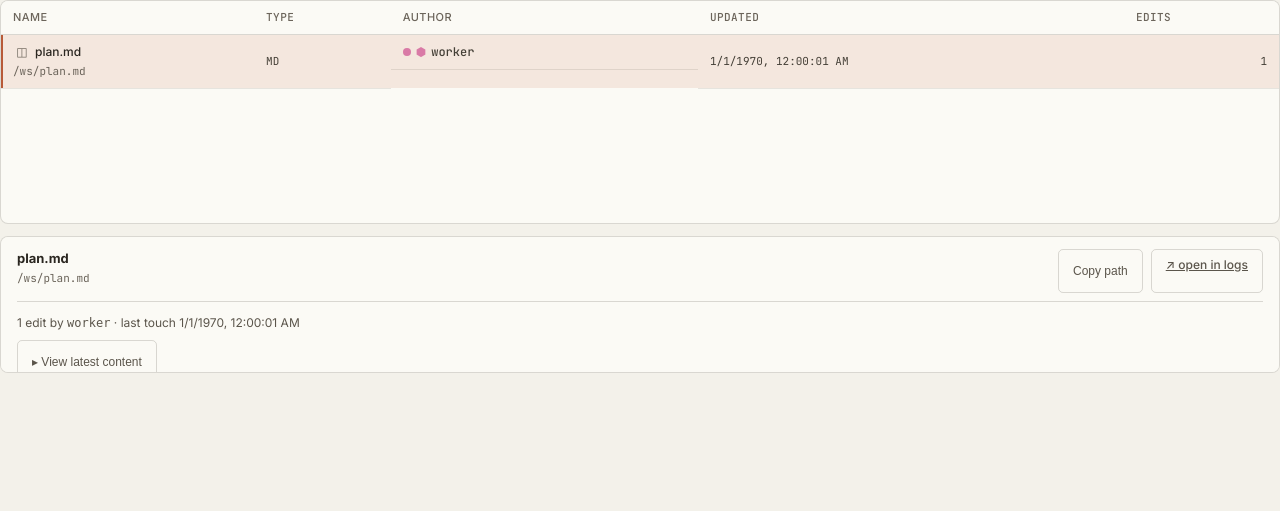
Test case: ArtifactsView content disclosure (H3 UI) › renders content + redacted badge + truncated hint on reply
This screenshot has width=1280, height=511.
Click the button with class "artifact-content-toggle".
click(87, 362)  # box [17,340,157,384]
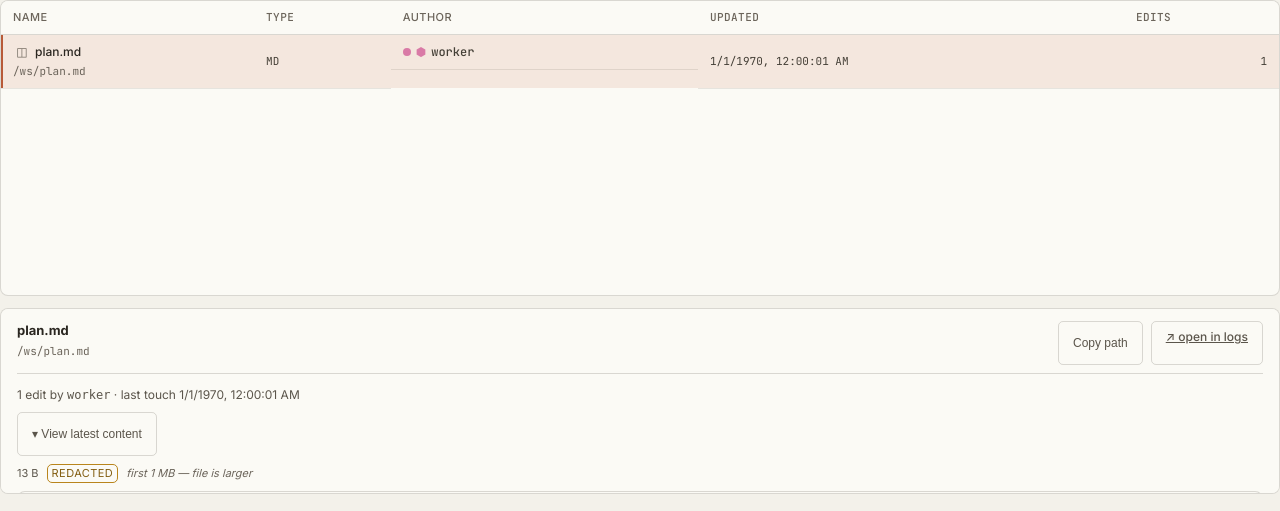
Expected: the text "redacted" is shown, [47,464,118,483]
Expected: the text "first 1 MB — file is larger" is shown, [126,465,252,482]
